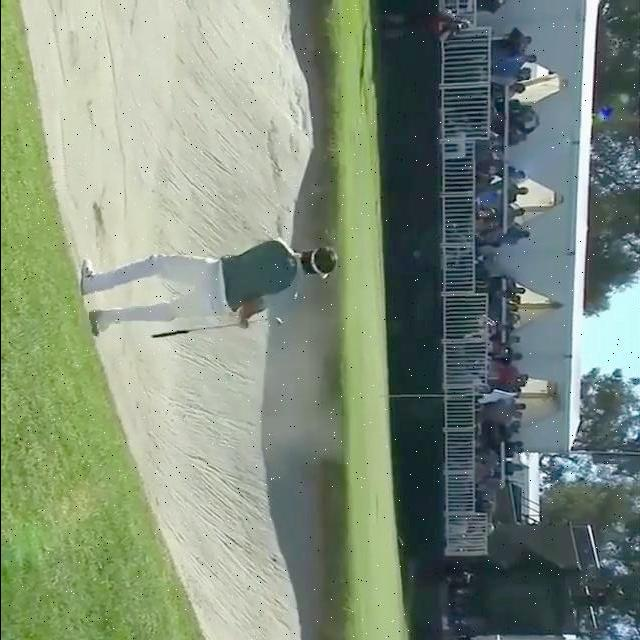golf club-handle: (150, 317, 282, 338)
golf club-head: (274, 317, 282, 326)
